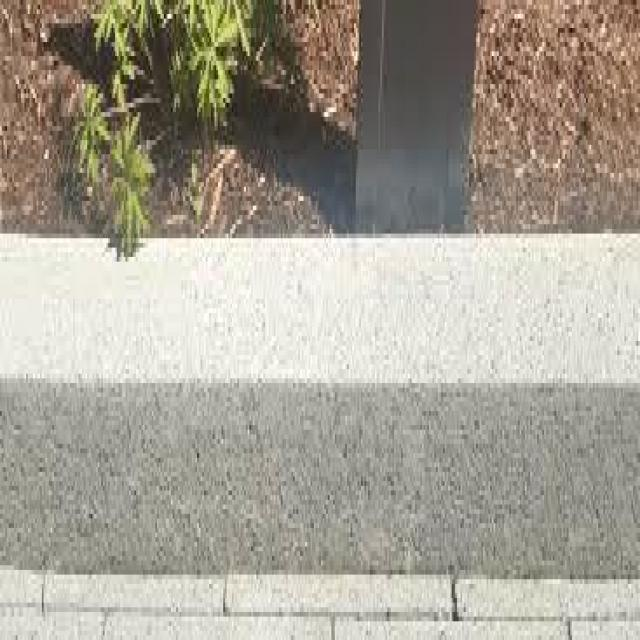curb: (1, 229, 639, 592)
